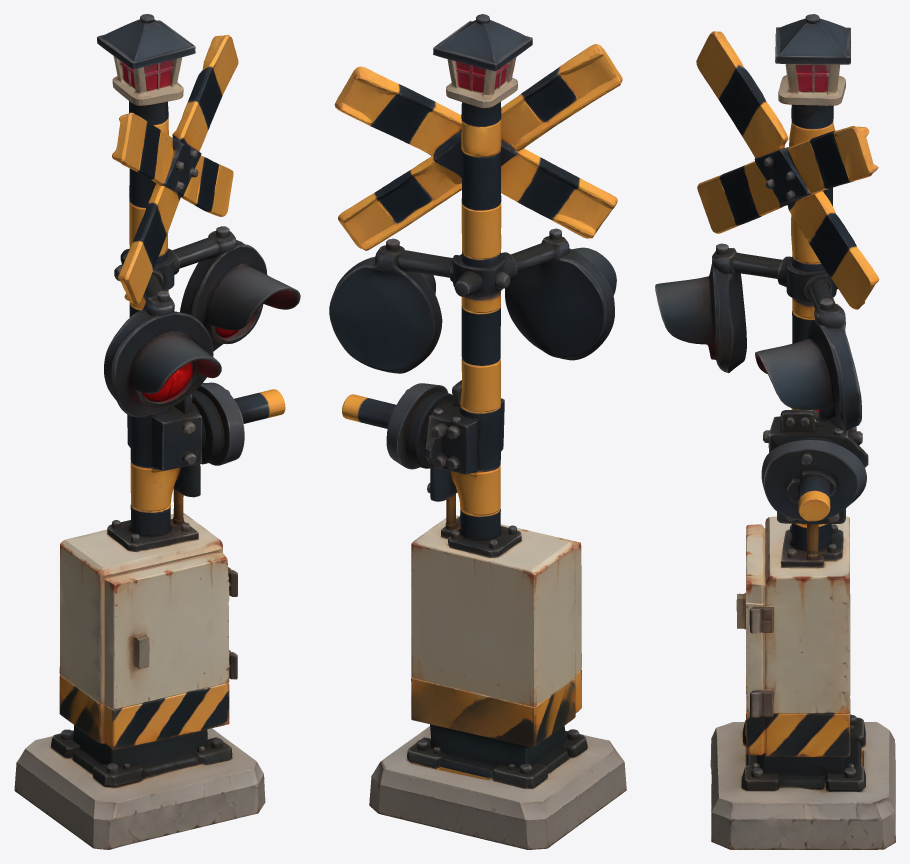
The picture shows the model from 3 angles, left to right: view 1: azimuth 30°, elevation 25°; view 2: azimuth 150°, elevation 25°; view 3: azimuth 270°, elevation 25°; orthographic projection. The views are drawn at different scales.
Parts seen in each view (by area): view 1: model; view 2: model; view 3: model.
Part boxes in pixels (x1,y1,x2,y2): model: (14, 14, 300, 849); model: (329, 14, 626, 849); model: (655, 14, 895, 849).
Bounding box in the file's own units: 0.6008 × 1.9 × 0.5209.
1 material, 1 textured.
